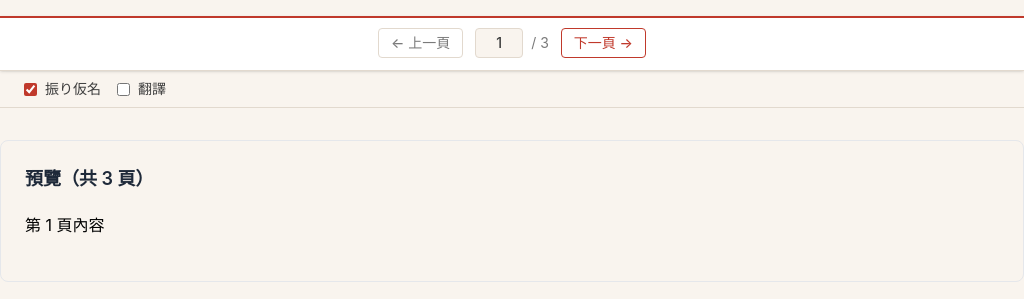
Test: PagedPreview › 從第 2 頁點「上一頁」回到第 1 頁
Click the button "下一頁 →" at (603, 43), box [561, 28, 646, 58]
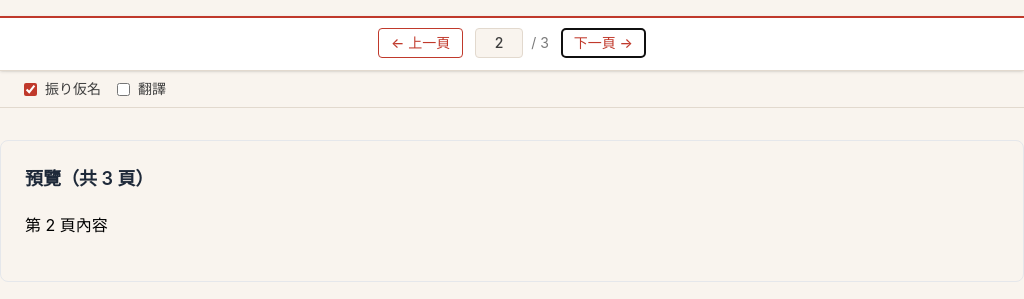
Click the button "← 上一頁" at (421, 43), box [378, 28, 463, 58]
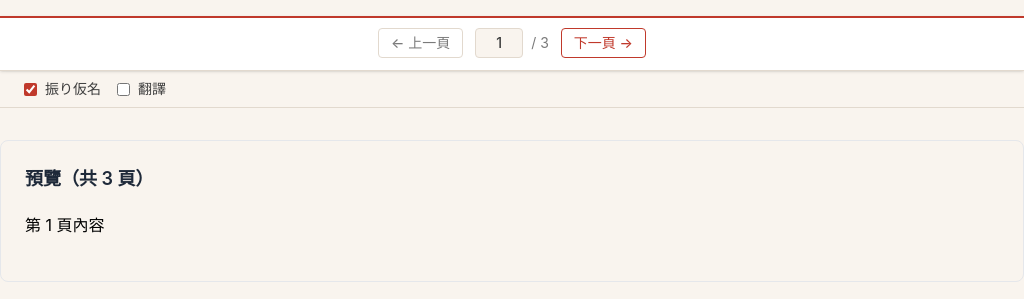
Result: the text "第 1 頁內容" is shown at [25, 215, 104, 235]
